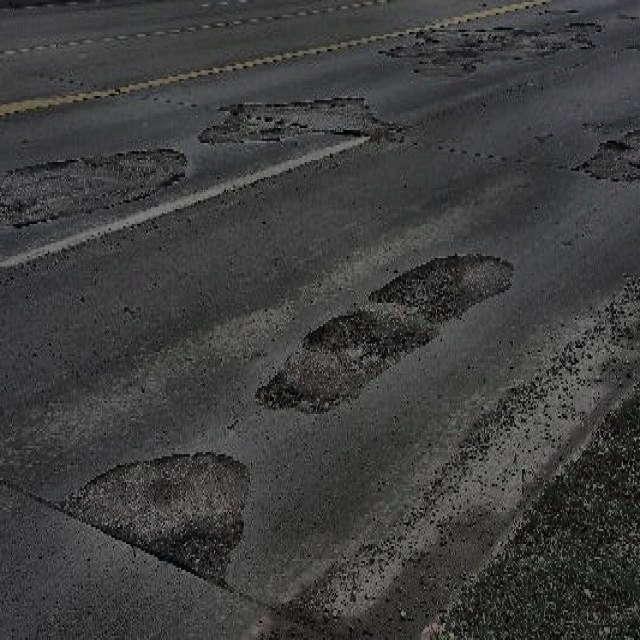Pothole: (304, 312, 428, 358), (372, 250, 464, 312), (164, 526, 236, 580)
